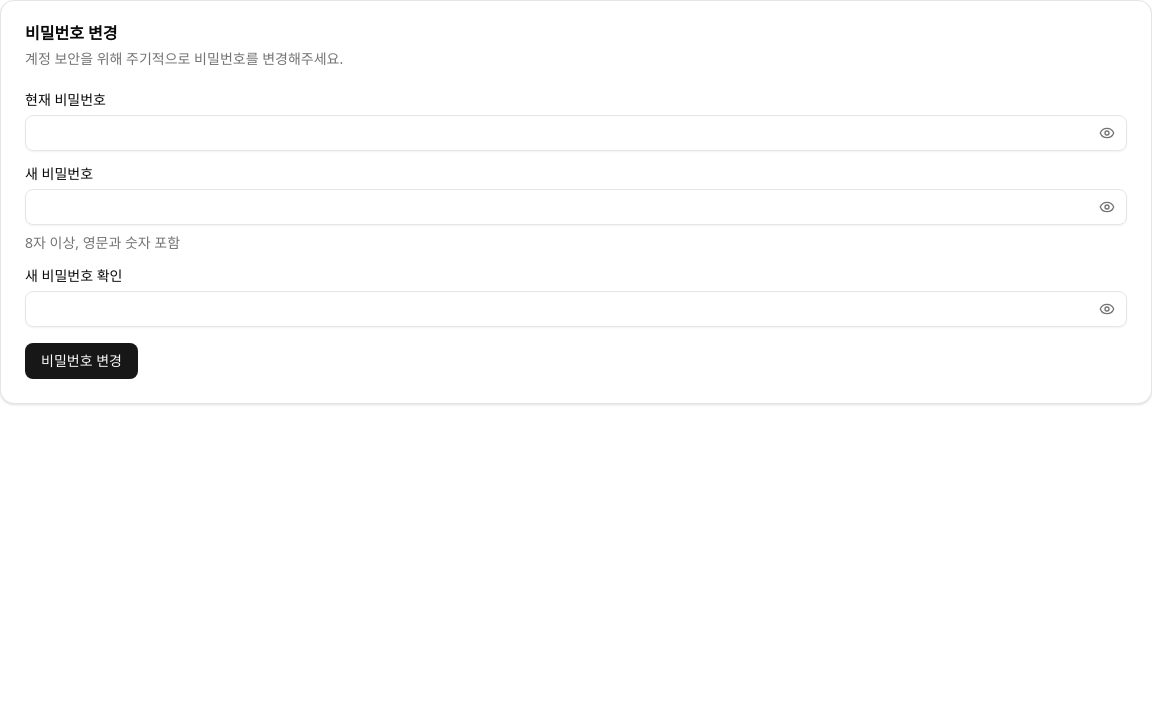
it: PasswordChangeSection › 유효성 검증 (클라이언트) › 현재 비밀번호를 입력하지 않으면 에러가 표시된다
This screenshot has width=1152, height=720.
Click the button "비밀번호 변경": (81, 361) [25,343,138,379]
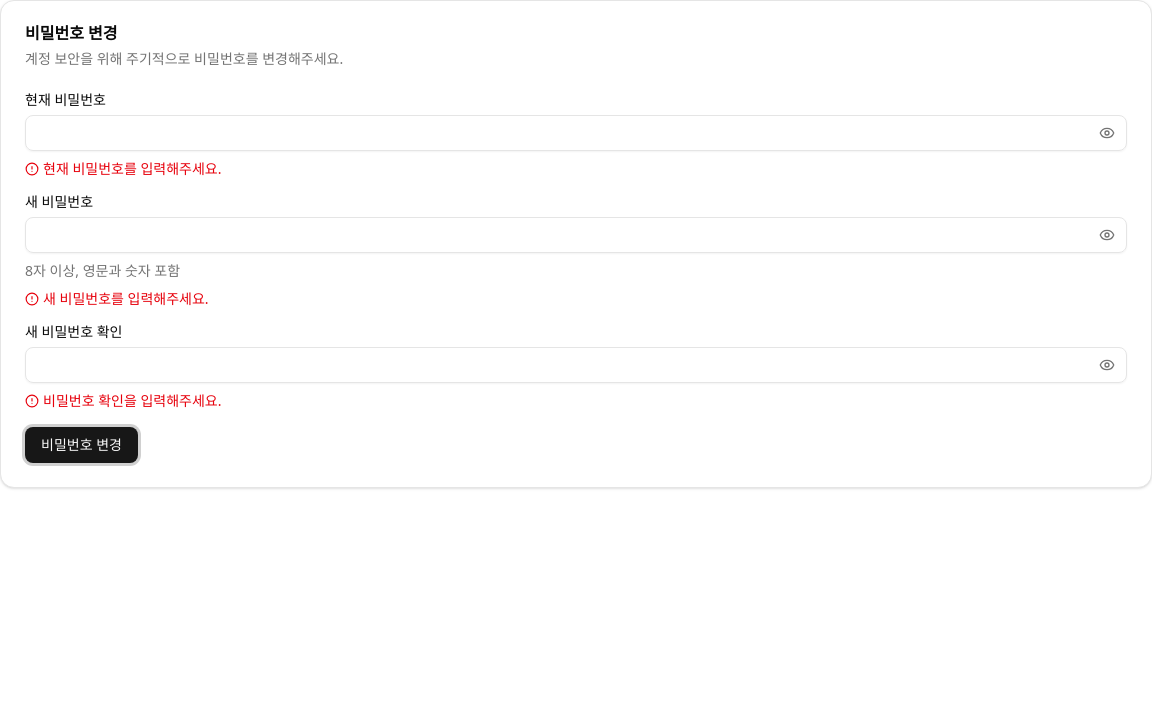
Check: the text "현재 비밀번호를 입력해주세요." is shown, box [25,159,222,178]
